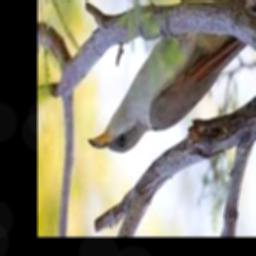Cuckoo: (89, 27, 248, 153)
